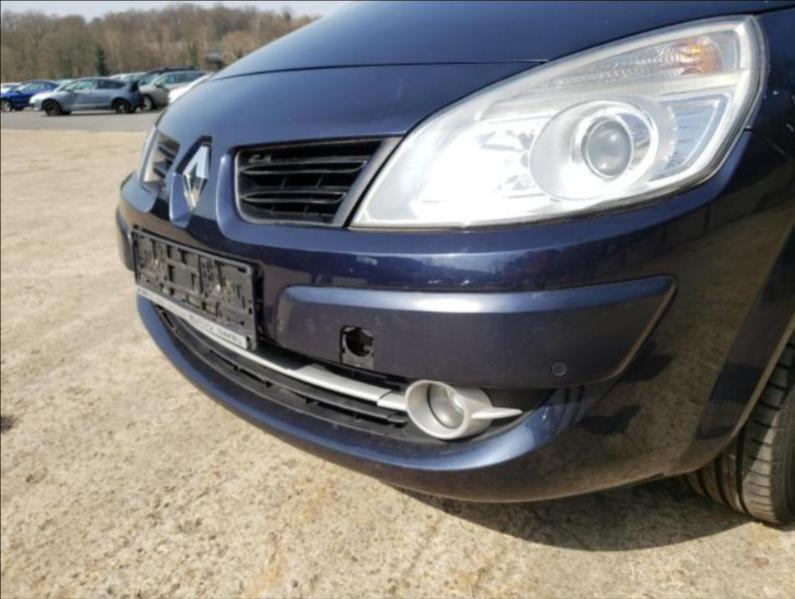Missing part: (334, 317, 381, 373)
